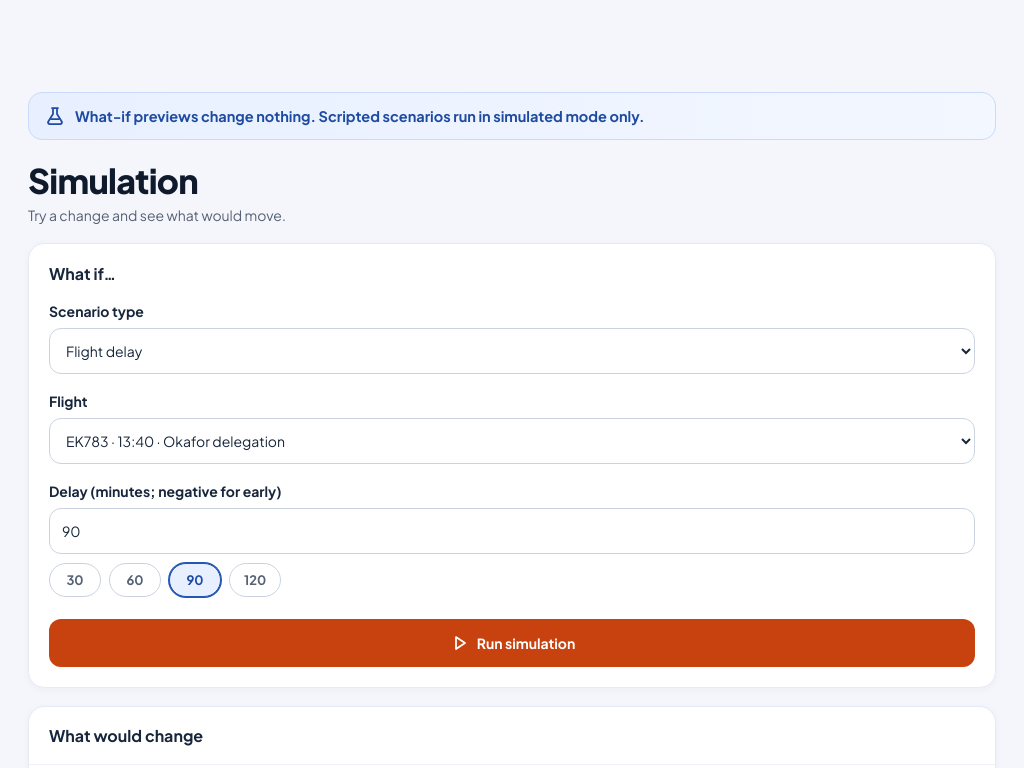
Test: SimulationScreen › previews a flight delay without changing anything
The image size is (1024, 768).
What coordinates should you click on to do the following:
click the button "Run simulation"
I would click on:
 (512, 643)
Its box is [49,619,975,667].
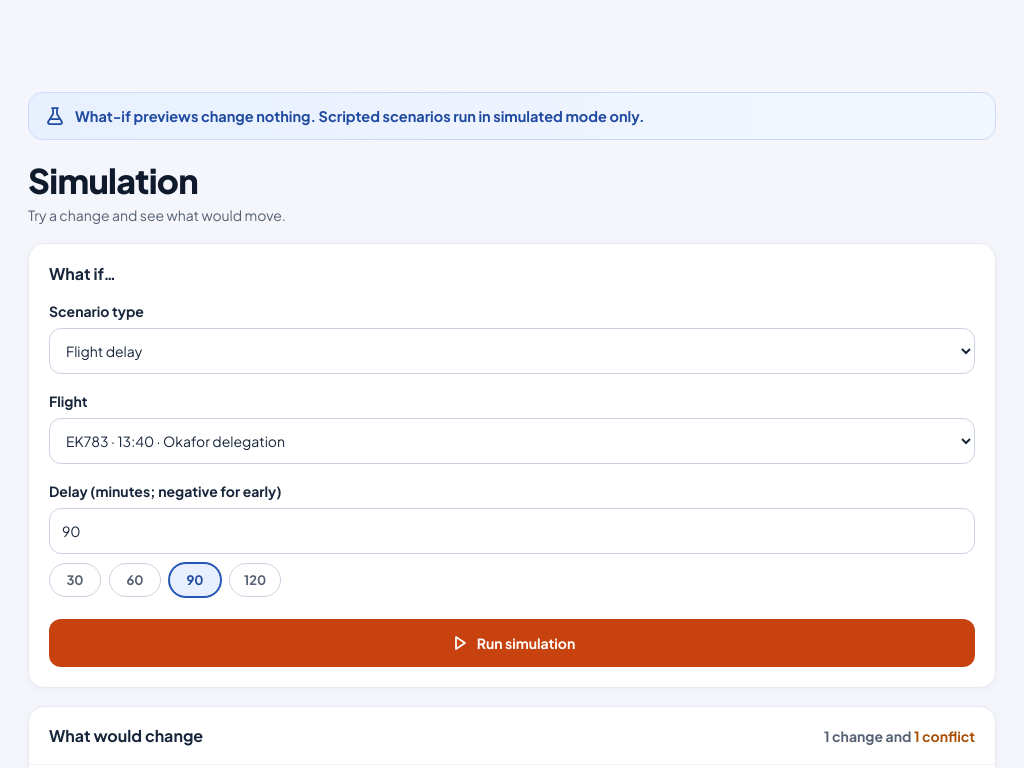
Check: the text "1 change and 1 conflict" is shown, box [824,726,975,746]
